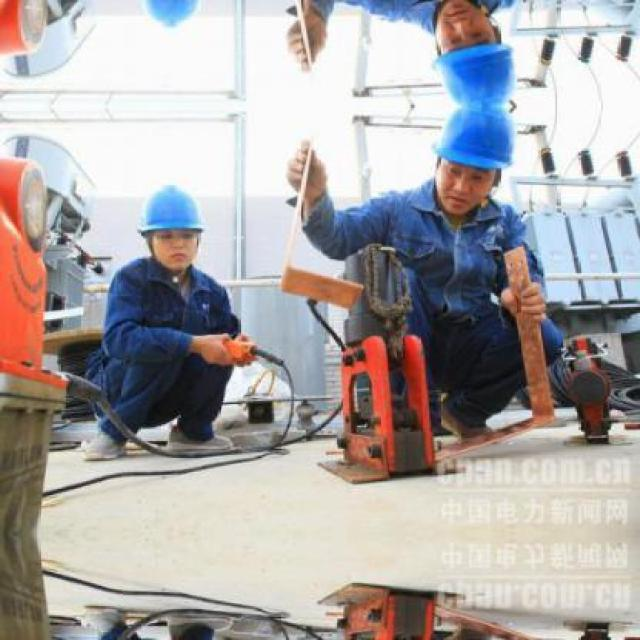helmet: (428, 105, 518, 174), (137, 184, 206, 238)
